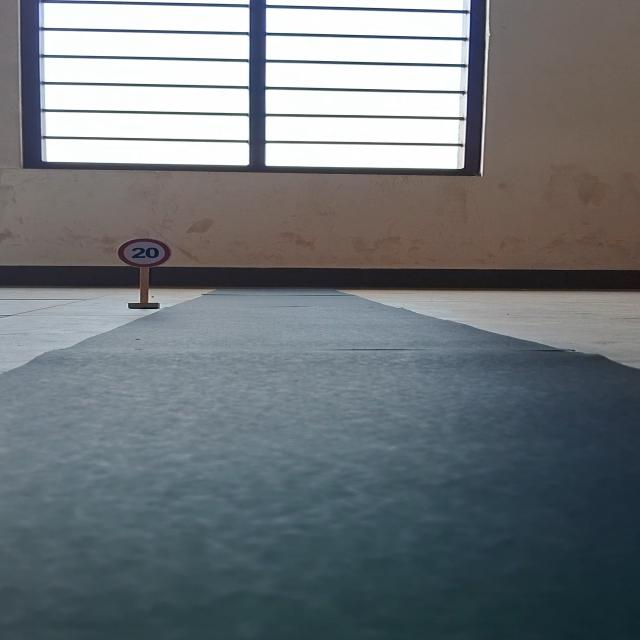Speed20: (114, 237, 174, 270)
